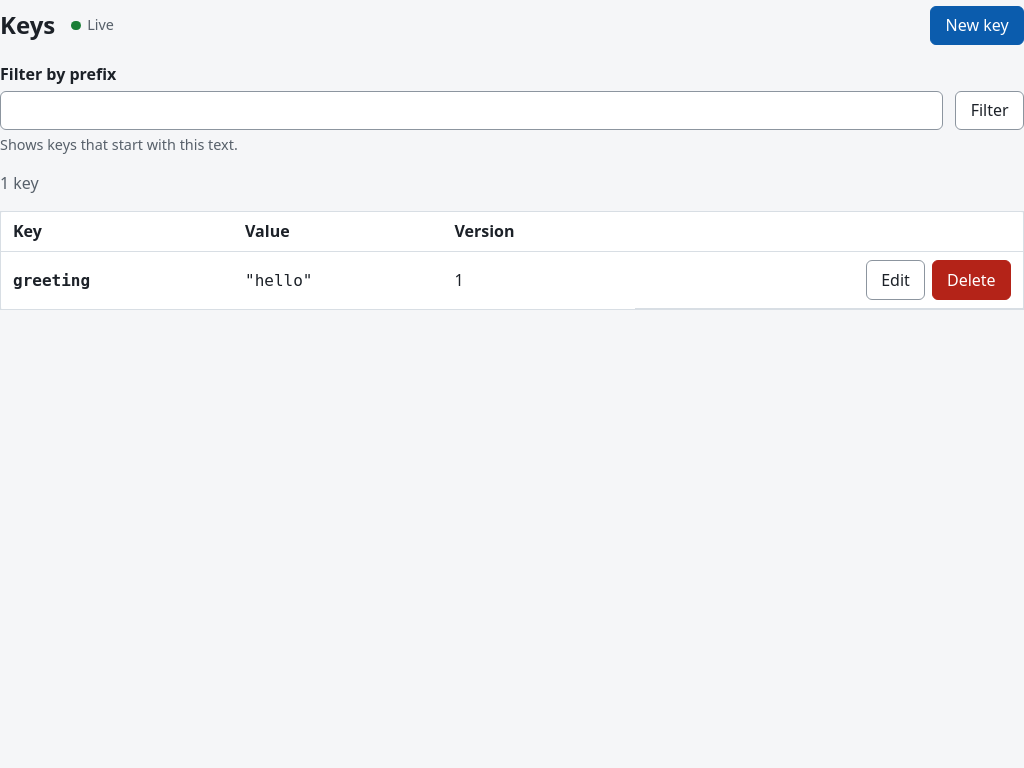
Scenario: KeysView › conflict dialog (412) › Overwrite re-sends your value with the latest version
Click the button with aria-label "Edit greeting" at (896, 280), box [866,260,925,300]
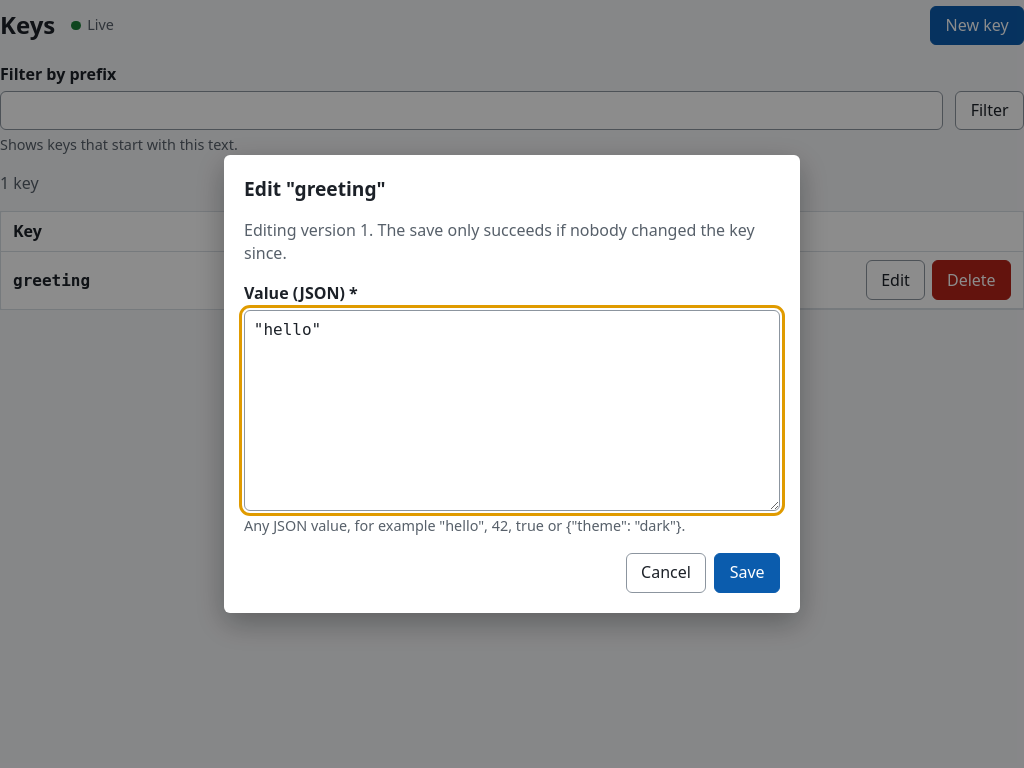
Replace the text in the text box labelled "Value (JSON) *" with "\"my careful edit\"" at (512, 410), box [244,310,780,511]
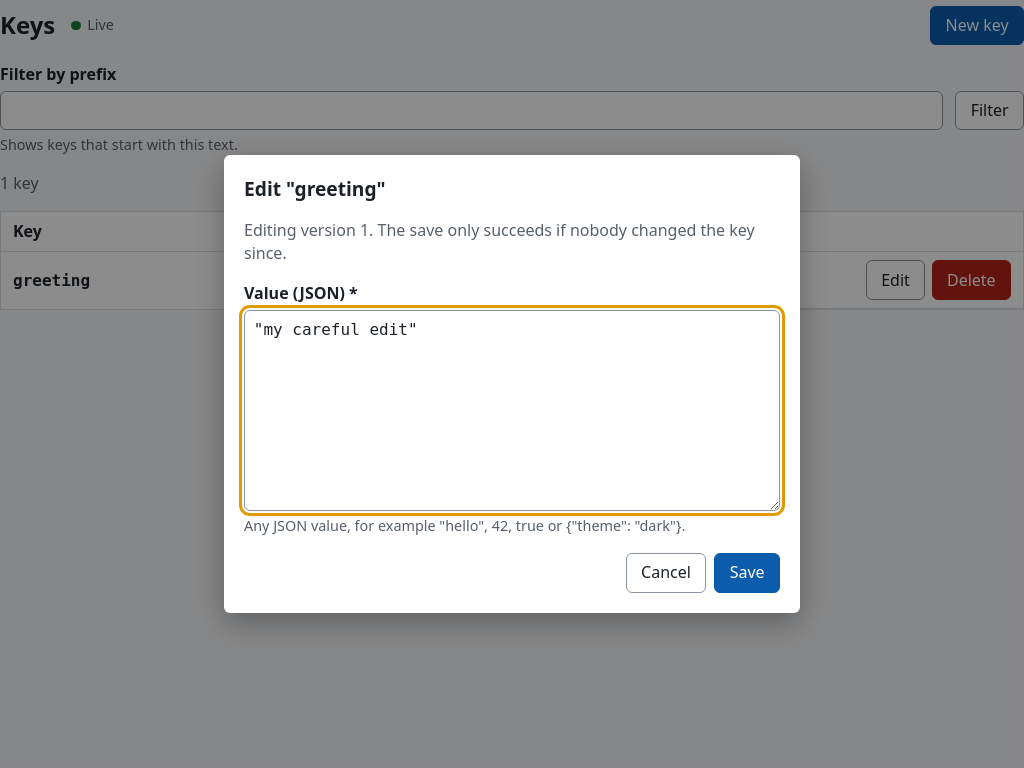
Submit the form with id "key-editor", box [244,219,780,537]
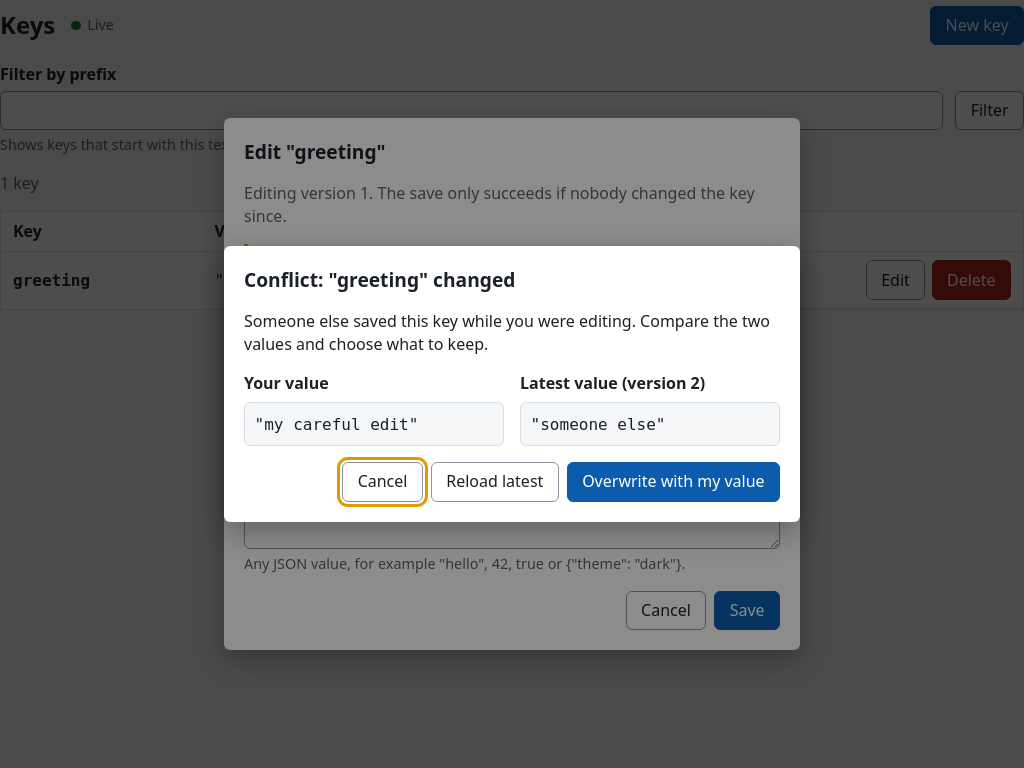
Click the button "Overwrite with my value" at (673, 482), box [567,462,780,502]
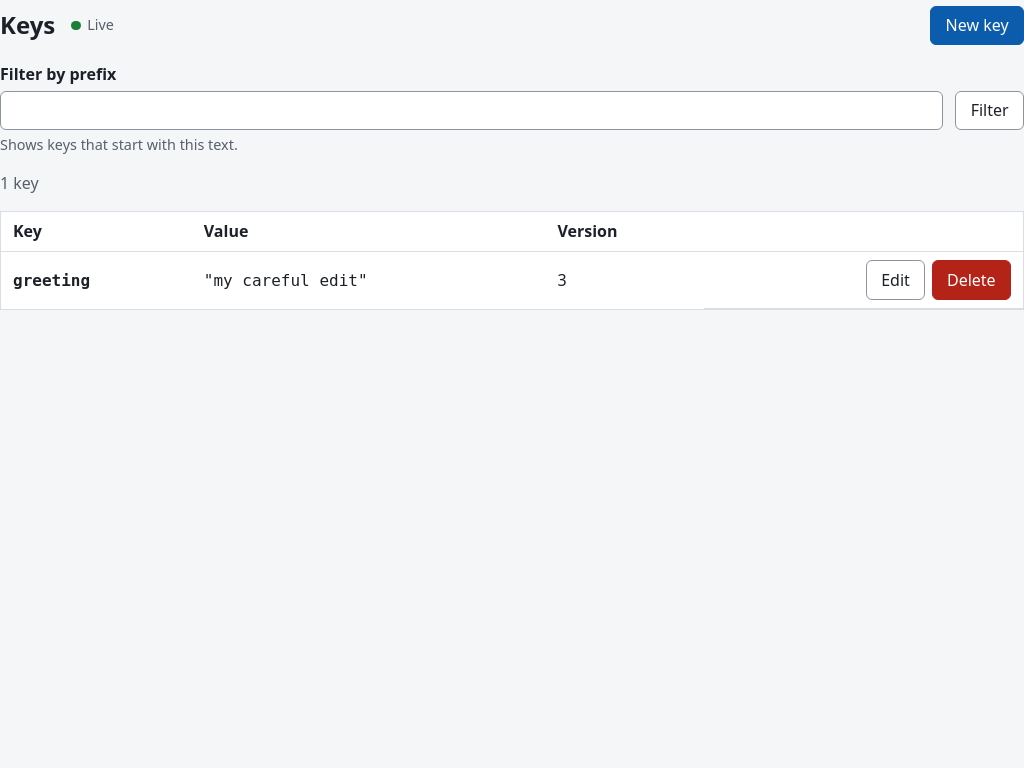
Now no dialogs are shown
